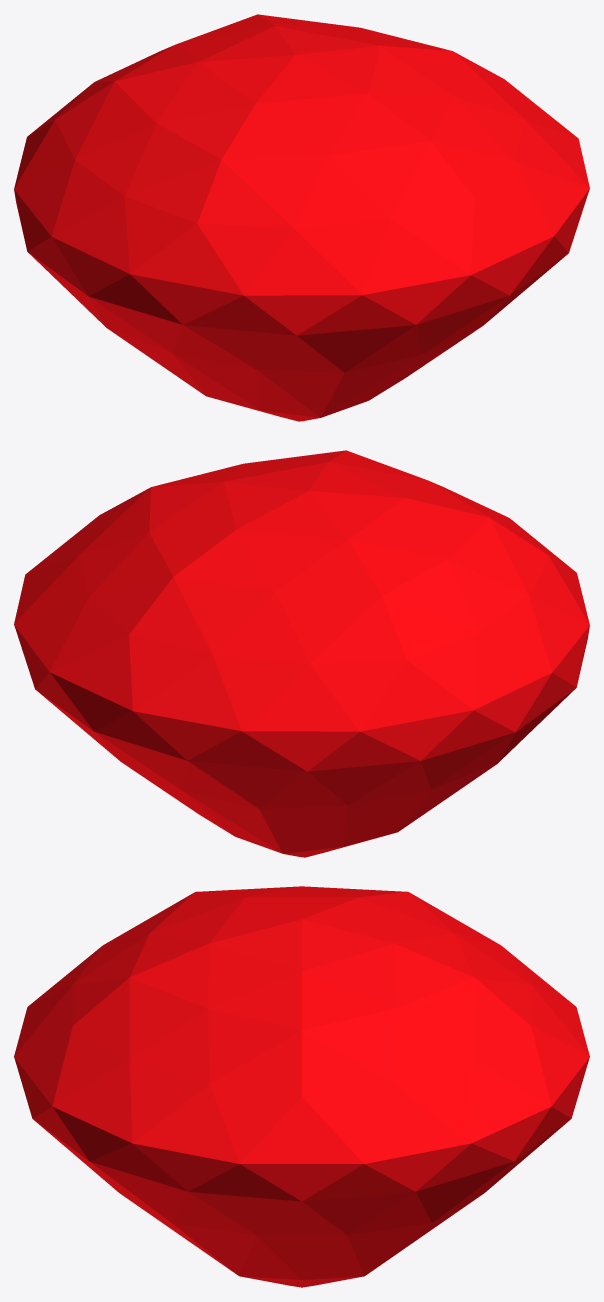
File: gem.glb
3 views of the same model, one above another, from view 1: azimuth 30°, elevation 25°; view 2: azimuth 150°, elevation 25°; view 3: azimuth 270°, elevation 25° (orthographic).
Visible parts, largest first — view 1: GeoSphere01; view 2: GeoSphere01; view 3: GeoSphere01.
Part boxes in pixels (x1,y1,x2,y2): GeoSphere01: (14,14,589,421); GeoSphere01: (14,450,589,857); GeoSphere01: (14,886,589,1287).
Size of the model in its own units: 0.0939 by 0.0665 by 0.0947.
